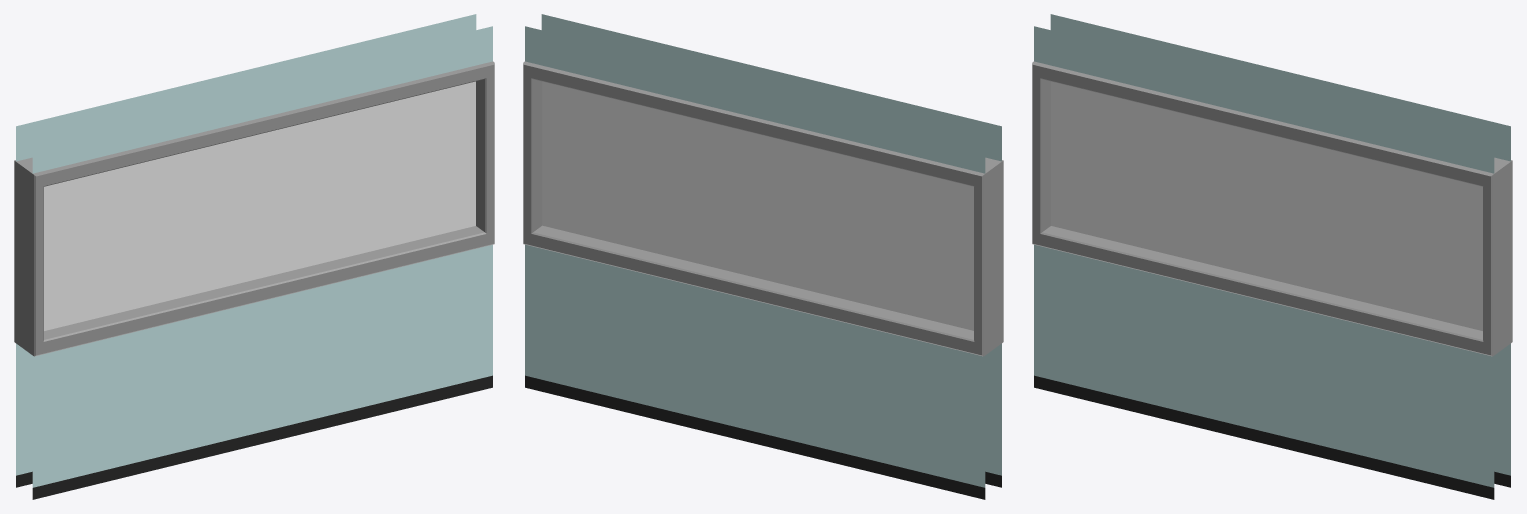
The model's file is interiorWindowWall_line_4.fbx.
3 views of the same model, side by side, from view 1: azimuth 30°, elevation 25°; view 2: azimuth 150°, elevation 25°; view 3: azimuth 330°, elevation 25° (orthographic).
Parts seen in each view (by area): view 1: wall, glassWall; view 2: wall, glassWall; view 3: wall, glassWall.
Boxes of the visible parts, x1=… form: wall: x1=14, y1=14, x2=494, y2=499; glassWall: x1=44, y1=81, x2=475, y2=330; wall: x1=523, y1=14, x2=1003, y2=499; glassWall: x1=542, y1=81, x2=973, y2=330; wall: x1=1032, y1=14, x2=1512, y2=499; glassWall: x1=1051, y1=81, x2=1482, y2=330.
Bounding box in the file's own units: 400 × 300 × 31.96.
